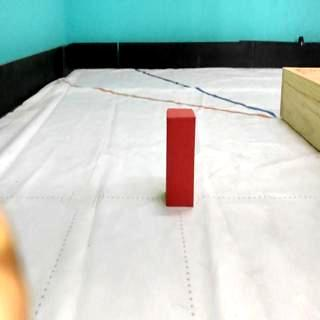redbox: (167, 107, 196, 207)
